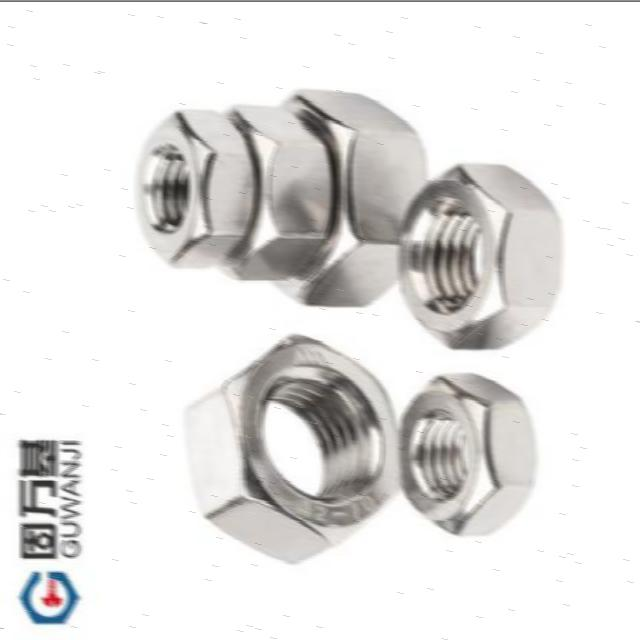Nut: (181, 334, 406, 566), (270, 86, 429, 308), (396, 160, 564, 350), (397, 371, 538, 536), (218, 102, 337, 282), (132, 106, 258, 268)
